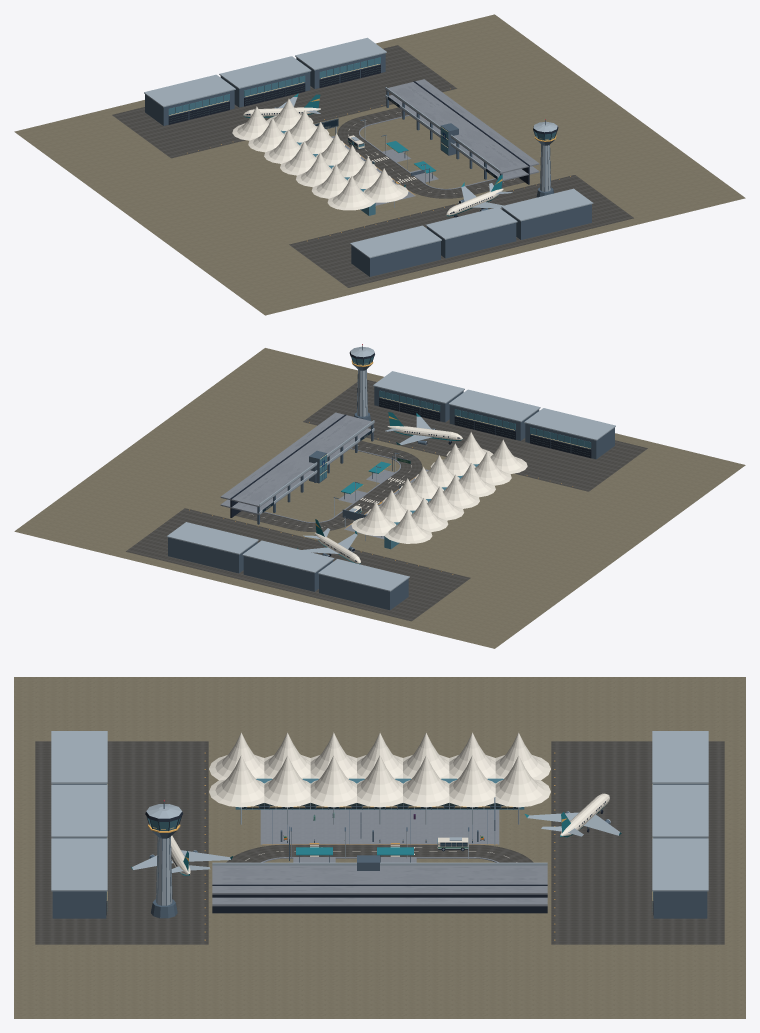
Rendered from trip-airport.glb.
3 views of the same model, one above another, from view 1: azimuth 30°, elevation 25°; view 2: azimuth 150°, elevation 25°; view 3: azimuth 270°, elevation 25° (orthographic). The views are drawn at different scales.
Visible parts, largest first — view 1: airport; view 2: airport; view 3: airport.
Boxes of the visible parts, x1=… form: airport: x1=14, y1=14, x2=745, y2=315; airport: x1=14, y1=344, x2=745, y2=648; airport: x1=14, y1=677, x2=745, y2=1018.
Size of the model in its own units: 210 by 32.39 by 190.
Materials: 33 (18 with a texture image).
